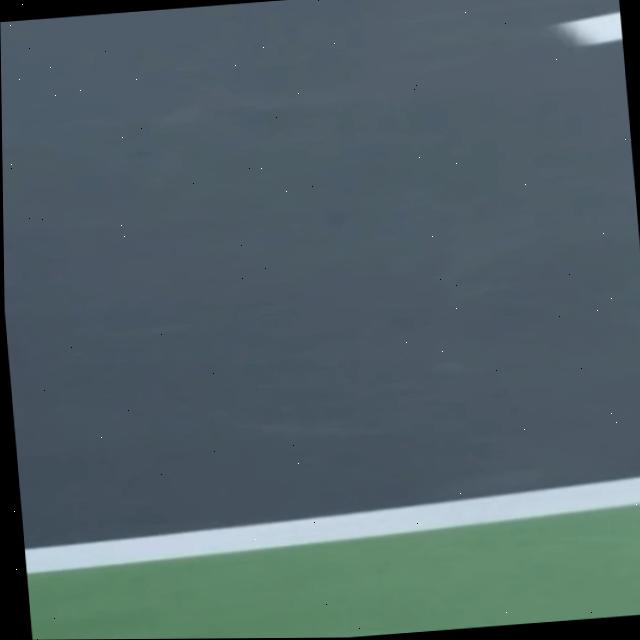center: (555, 11, 622, 44)
right: (23, 475, 640, 572)
